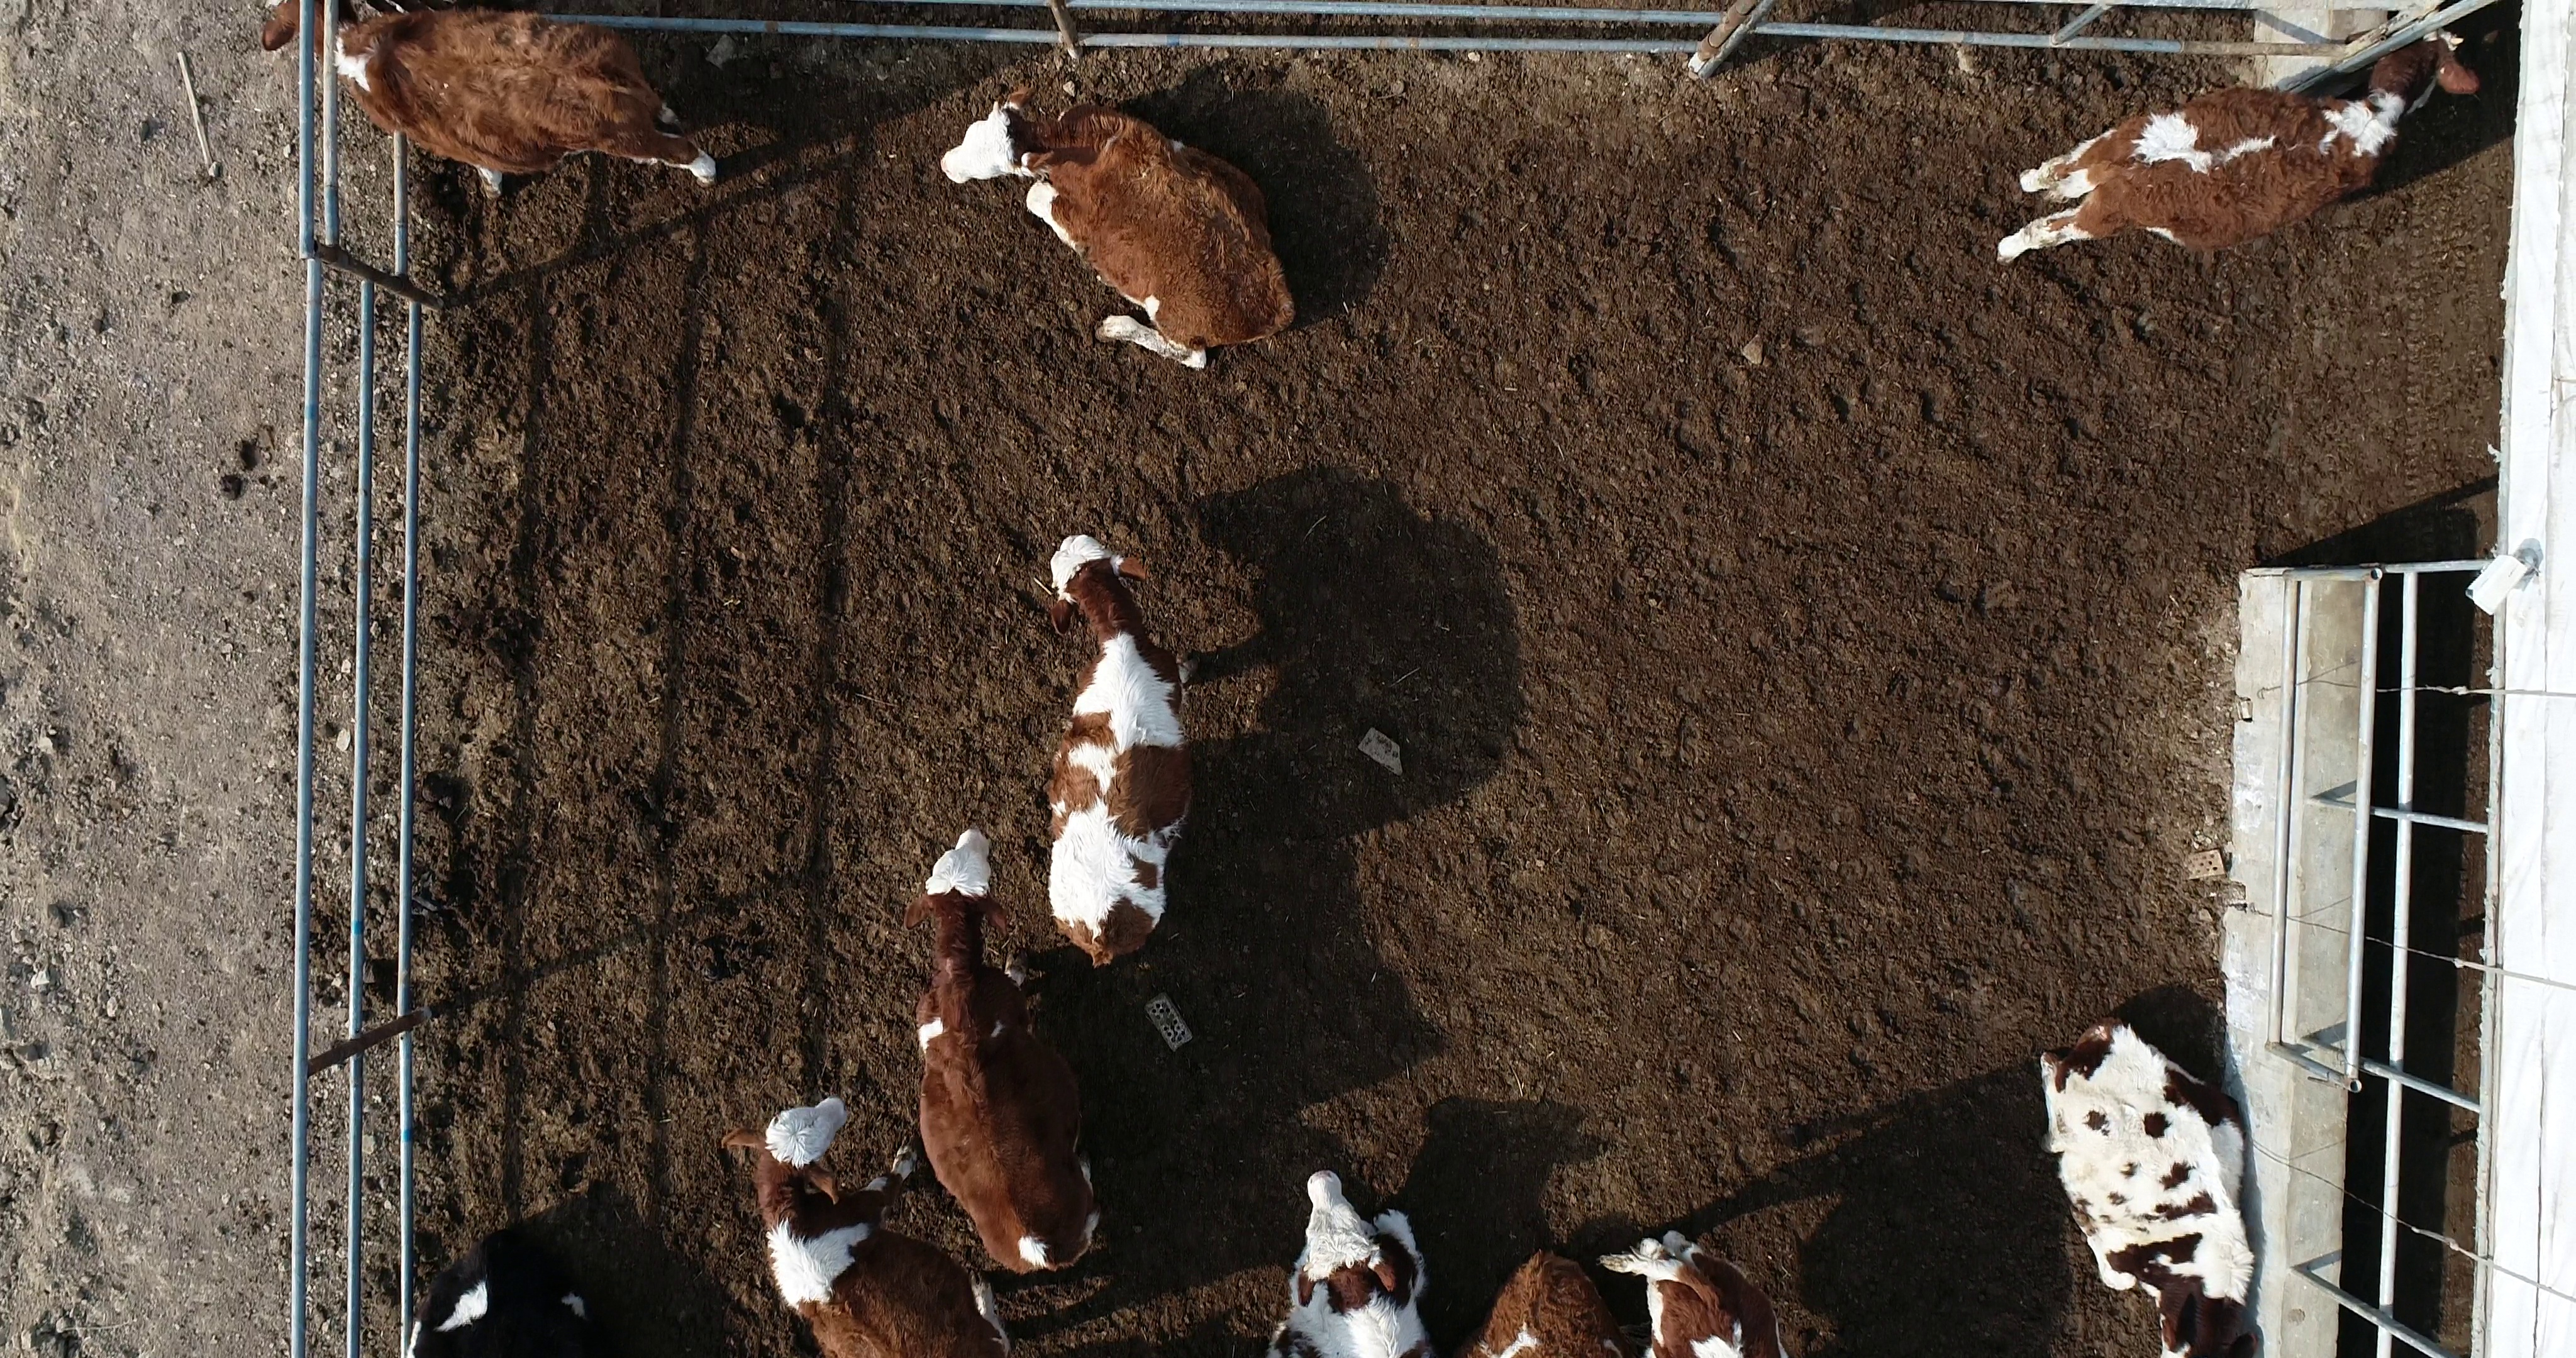cattle: (1992, 22, 2484, 276), (935, 85, 1308, 375), (894, 823, 1107, 1285), (252, 0, 727, 203), (2038, 1012, 2269, 1358), (1038, 530, 1201, 973)
